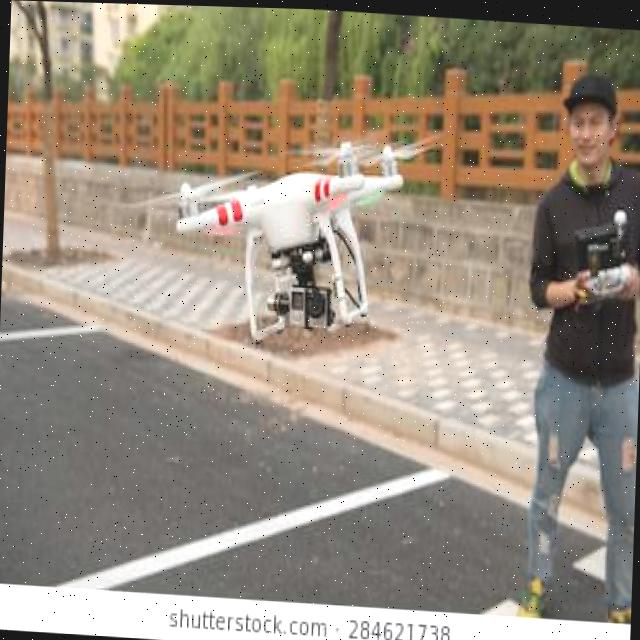drone: (136, 25, 452, 426)
